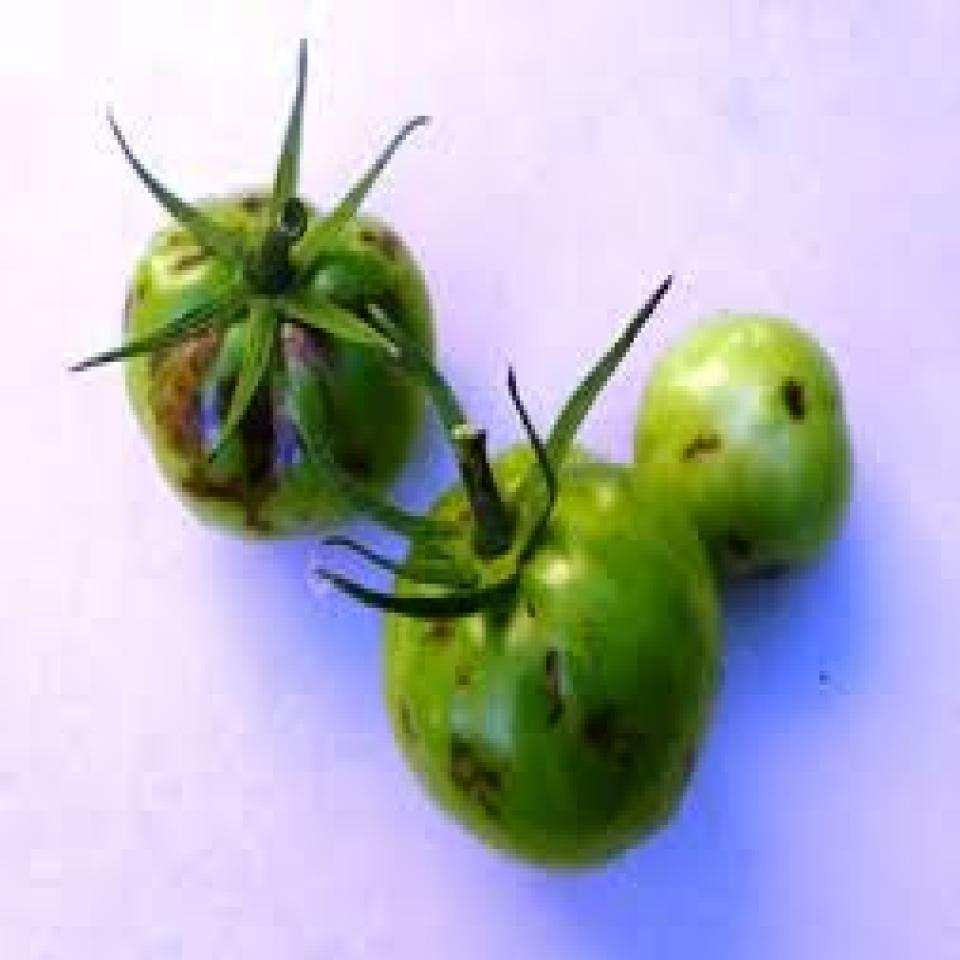Spotted wilt Virus: (384, 439, 727, 873), (122, 187, 440, 537), (636, 308, 852, 582)
